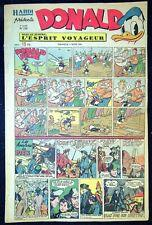paper: (5, 2, 148, 222)
